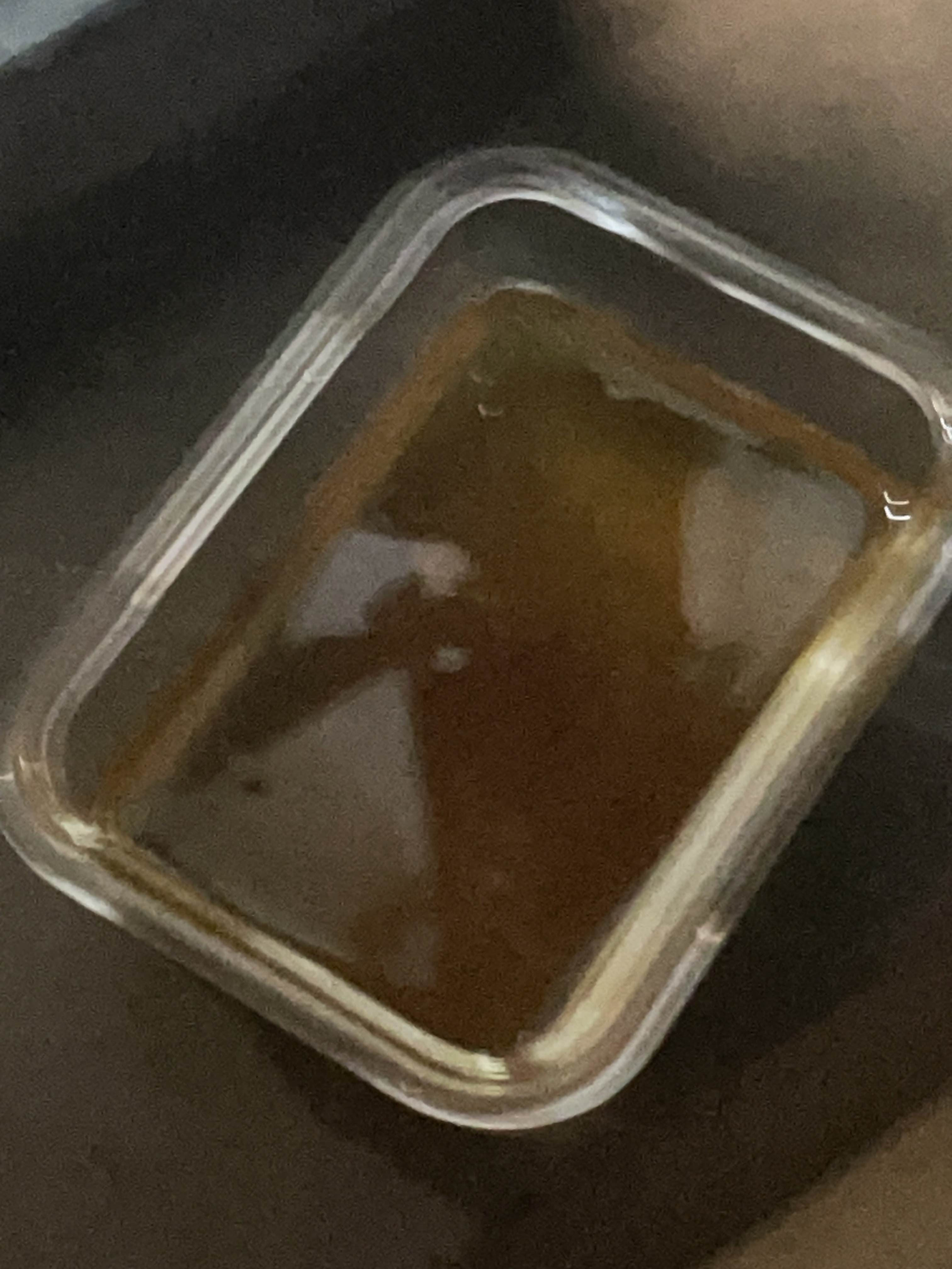reusable: (107, 283, 894, 1042)
